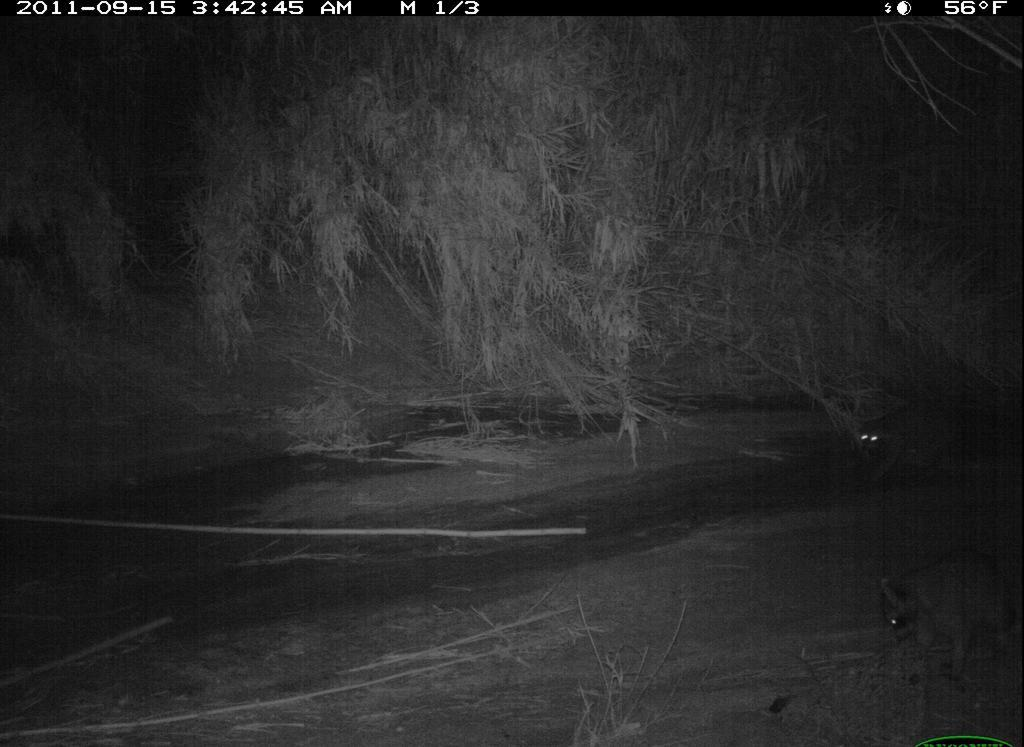raccoon: (858, 533, 1013, 692), (843, 390, 990, 493)
